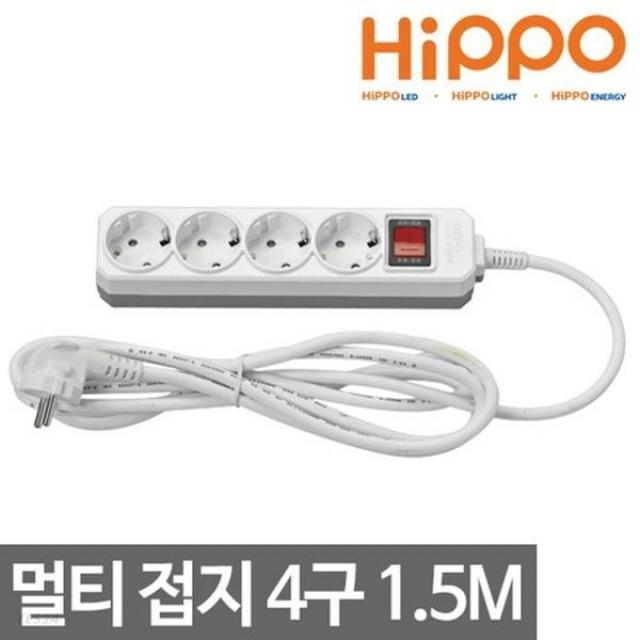typeb: (71, 192, 508, 312)
